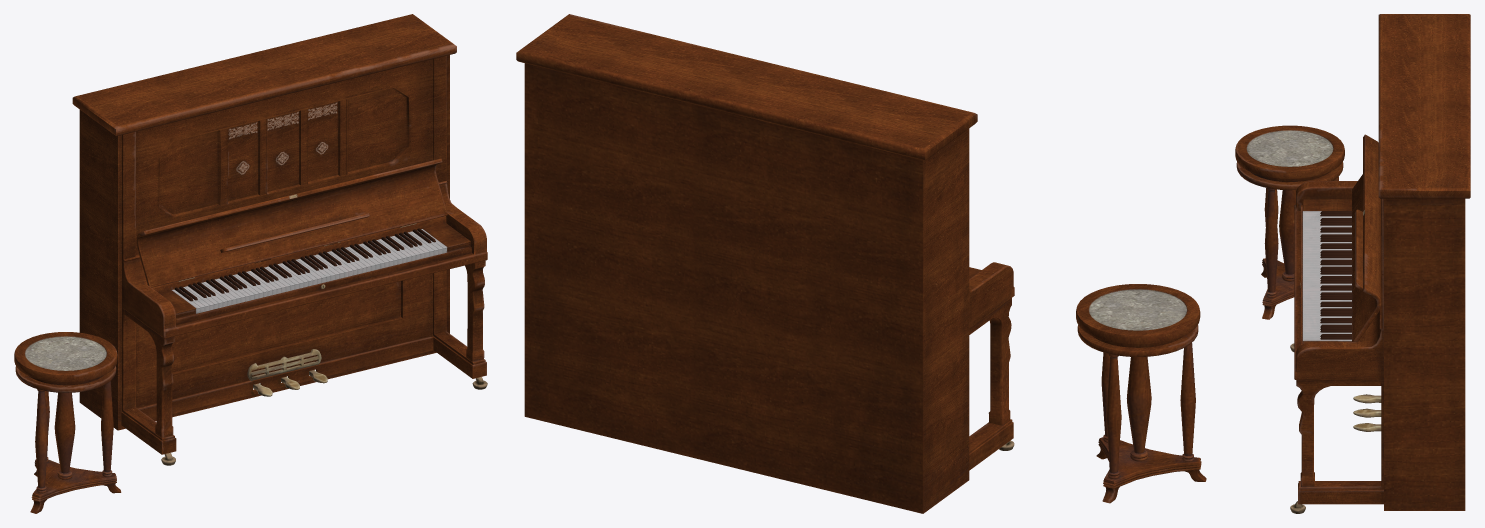
The model's file is grand_piano.glb.
The picture shows the model from 3 angles, left to right: view 1: azimuth 30°, elevation 25°; view 2: azimuth 150°, elevation 25°; view 3: azimuth 270°, elevation 25°; orthographic projection. The views are drawn at different scales.
Parts seen in each view (by area): view 1: gangqin; view 2: gangqin; view 3: gangqin.
Boxes of the visible parts, x1,y1,x2,y2 form: gangqin: (14,14,487,513); gangqin: (516,14,1206,513); gangqin: (1235,14,1470,513).
Size of the model in its own units: 2162 by 1349 by 870.
Materials: 1 (1 with a texture image).
